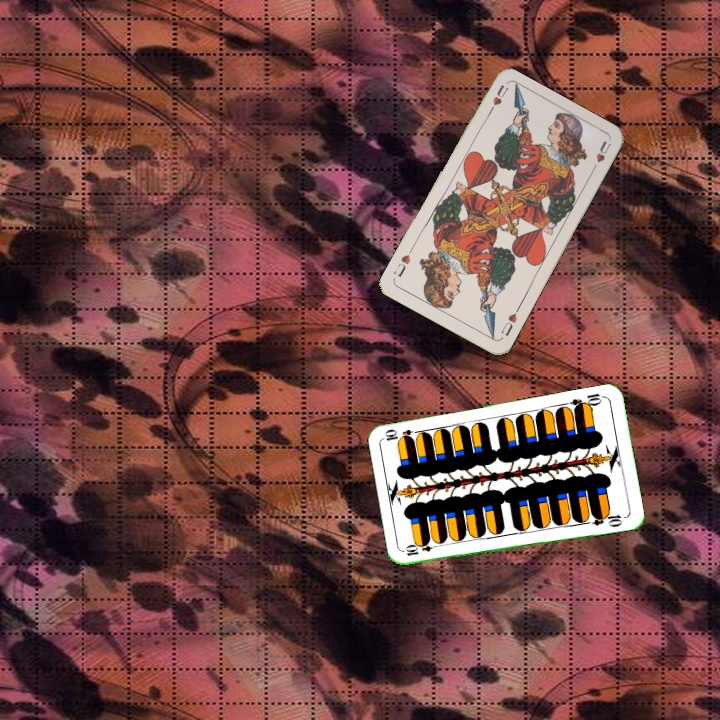E10: (567, 389, 607, 413), (401, 539, 442, 558)
HU: (484, 81, 510, 118), (497, 303, 522, 339)
